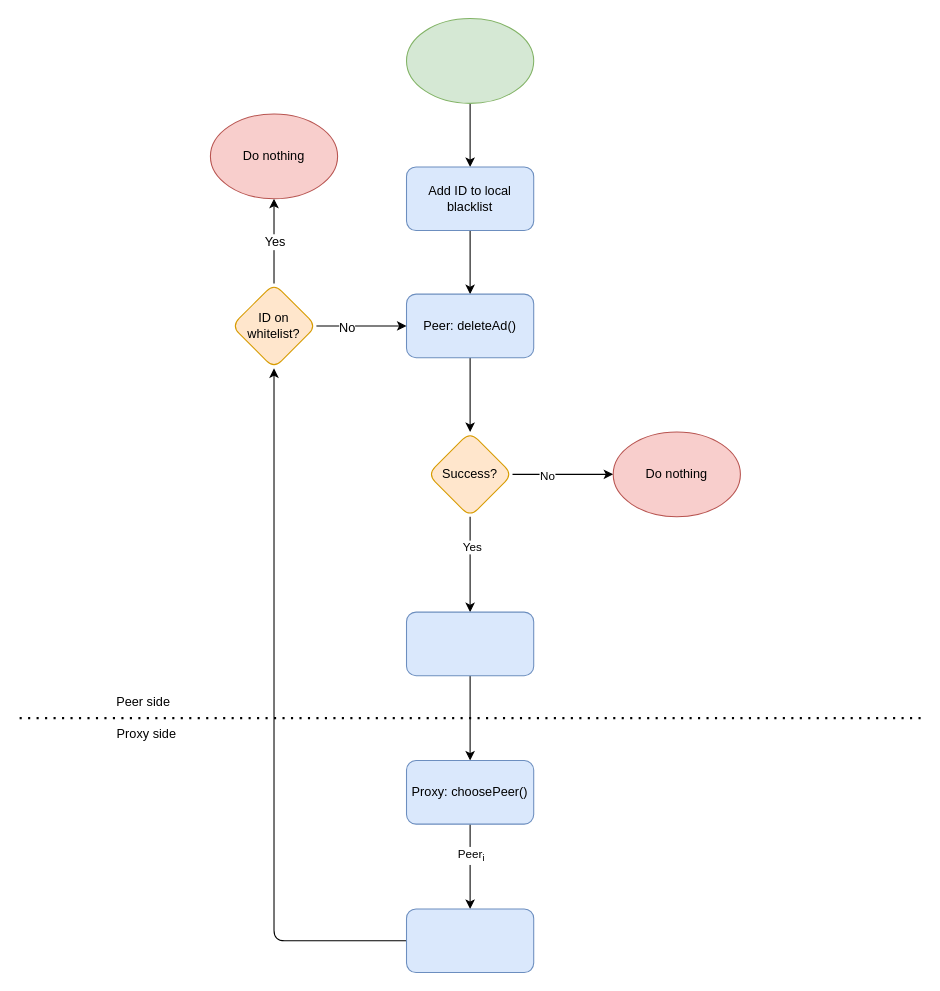
This 940x991 diagram has some shape labels left out. The shapes that lost their labels are listed below. From the top down, each one's box as (x1, y1, x2, y2) in pixels, then its label:
(405, 17, 534, 103): User deletes ad
(405, 611, 534, 676): Peer to Proxy: 'delete-ad'
(405, 908, 534, 973): Proxy to Peer i : 'delete-ad-replica'
